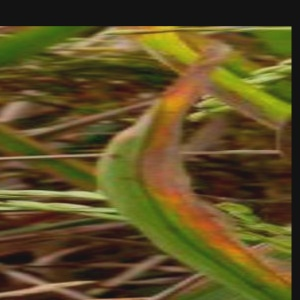Leaf_Blast: (106, 106, 190, 255)
